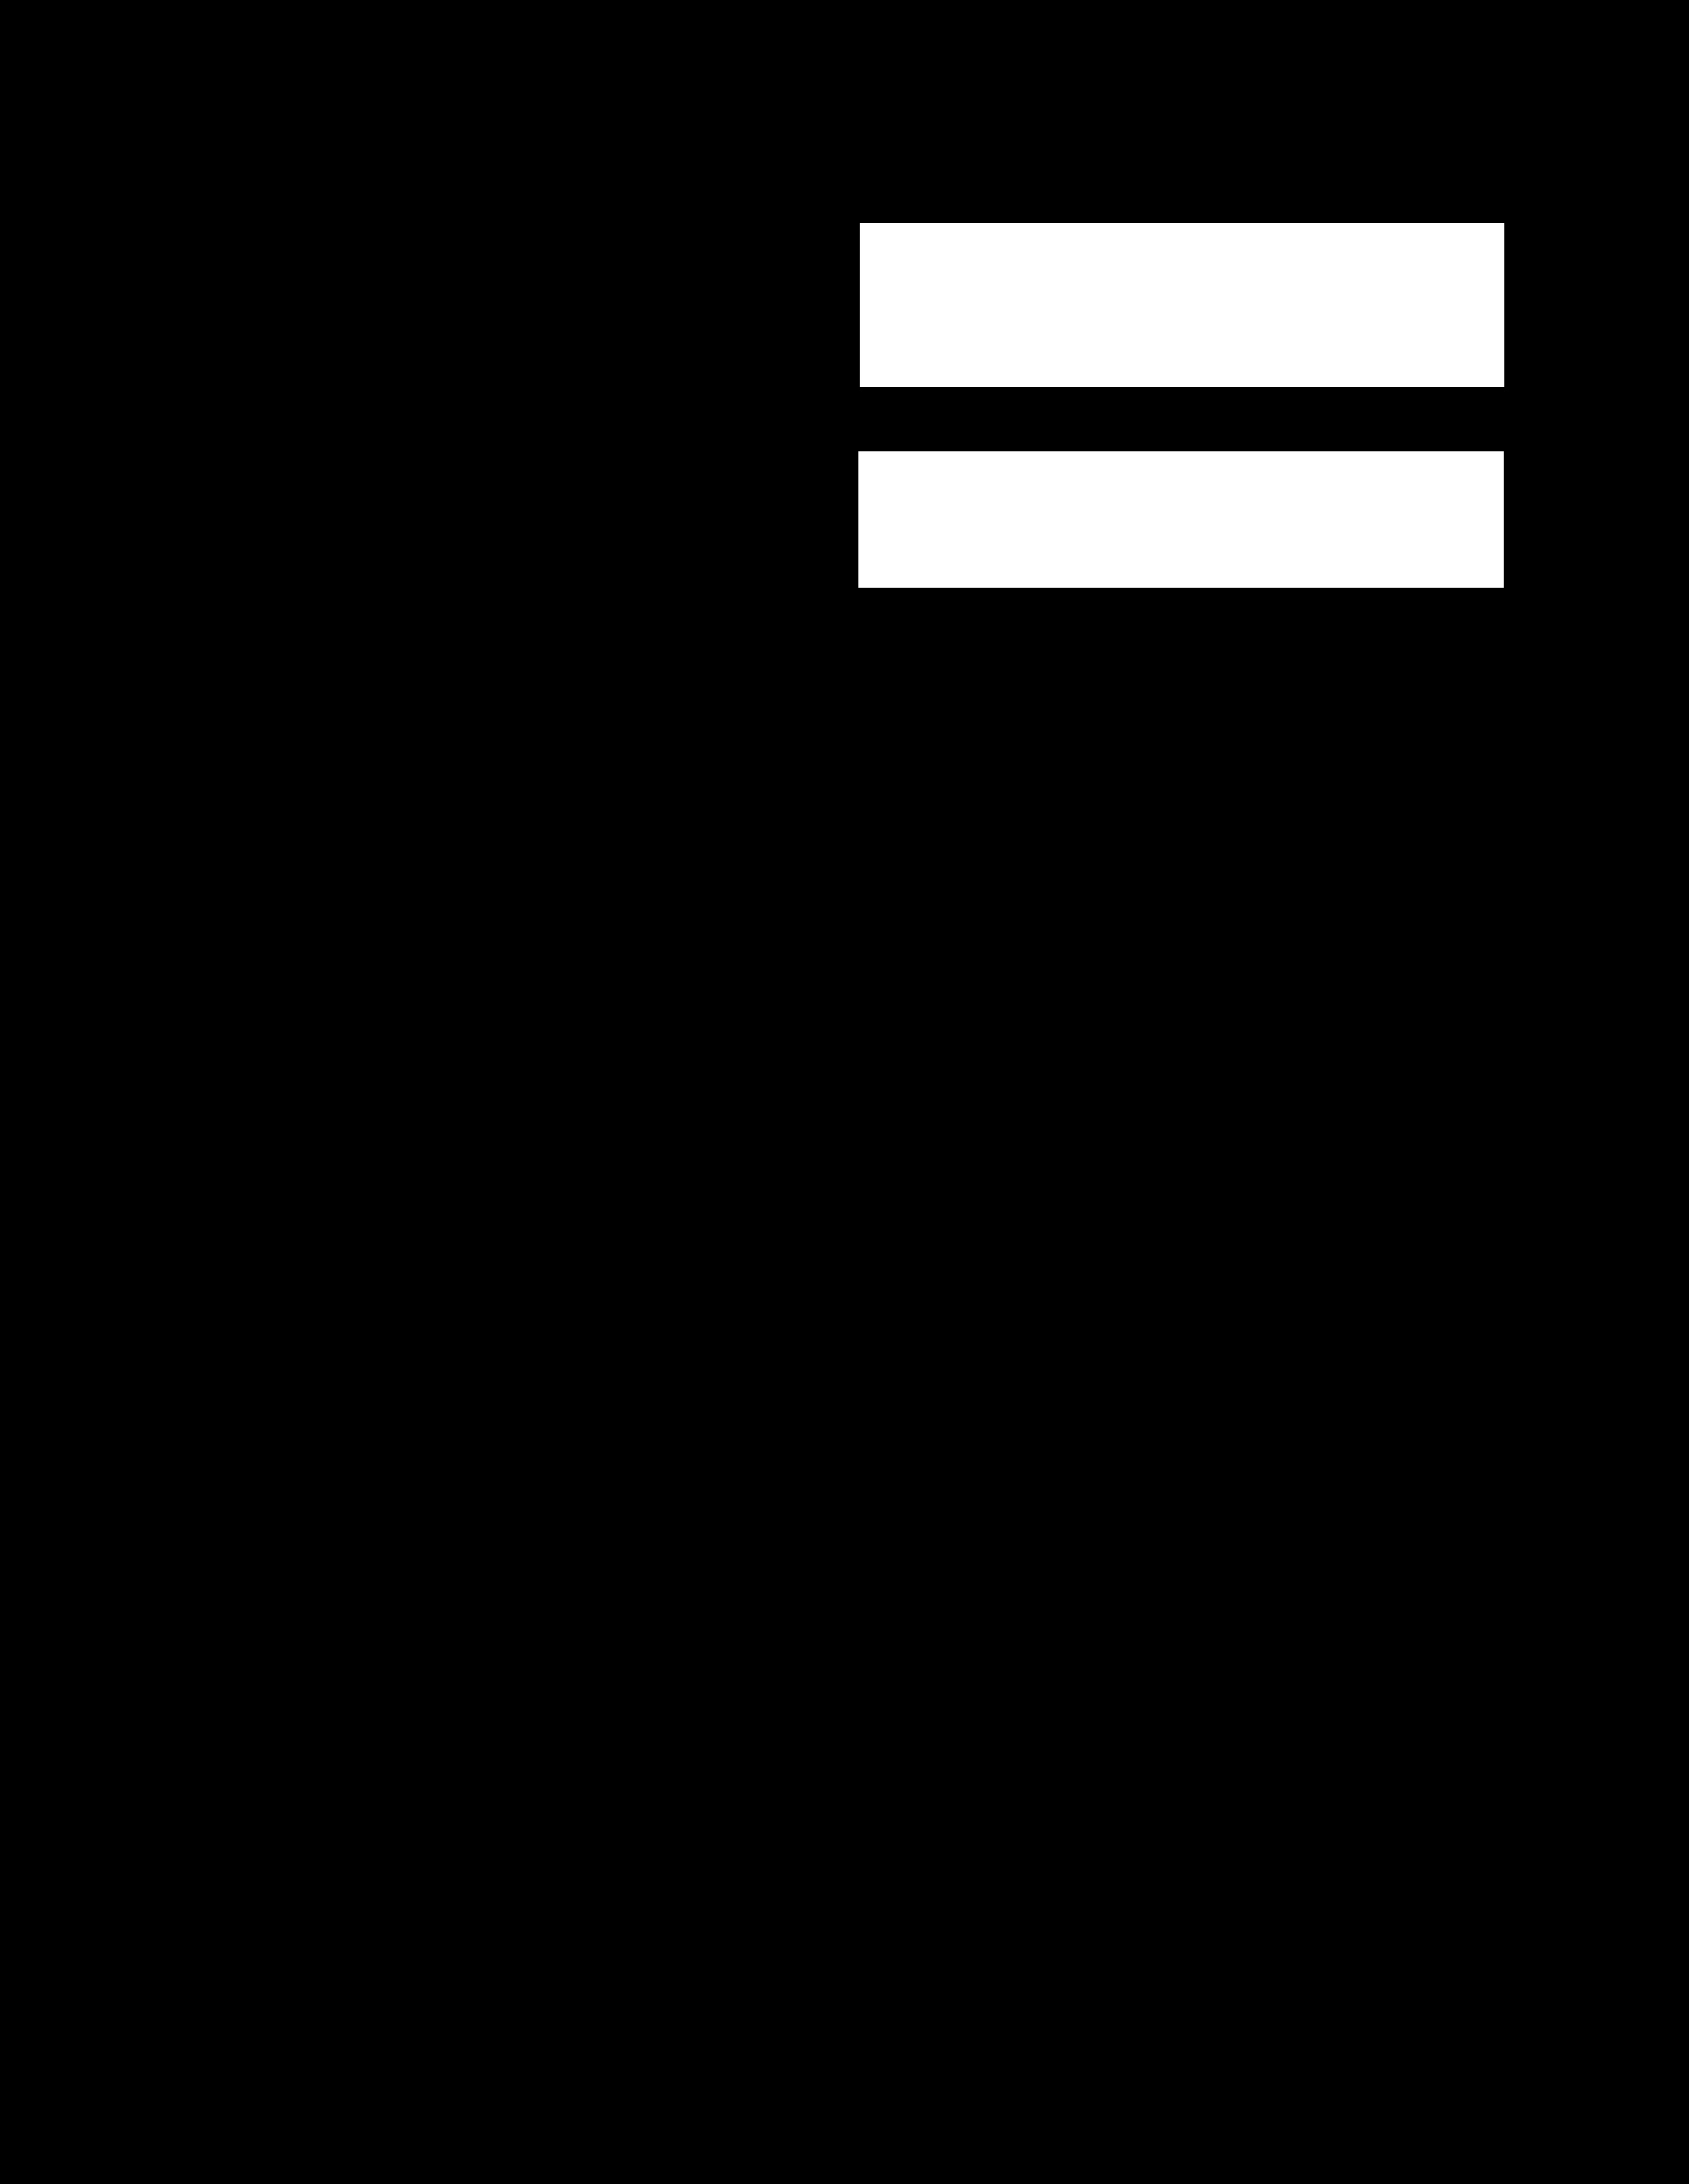table: (860, 223, 1503, 386), (858, 452, 1503, 587)
